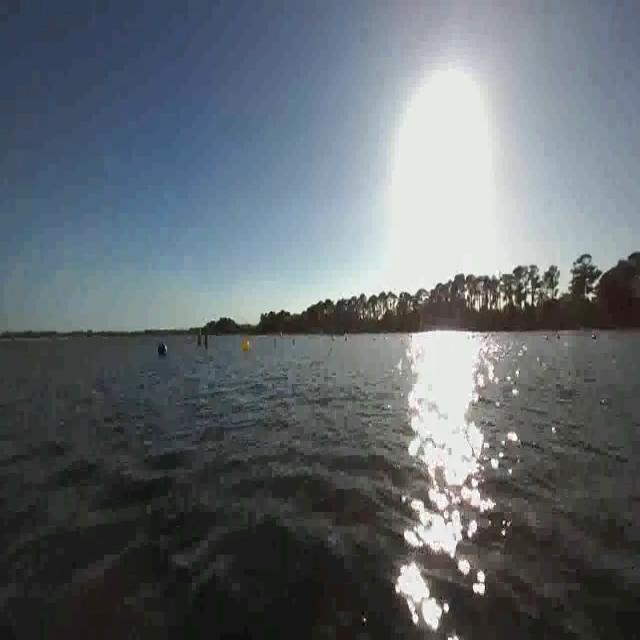blue-buoy: (158, 340, 168, 360)
yellow-buoy: (240, 340, 249, 354)
